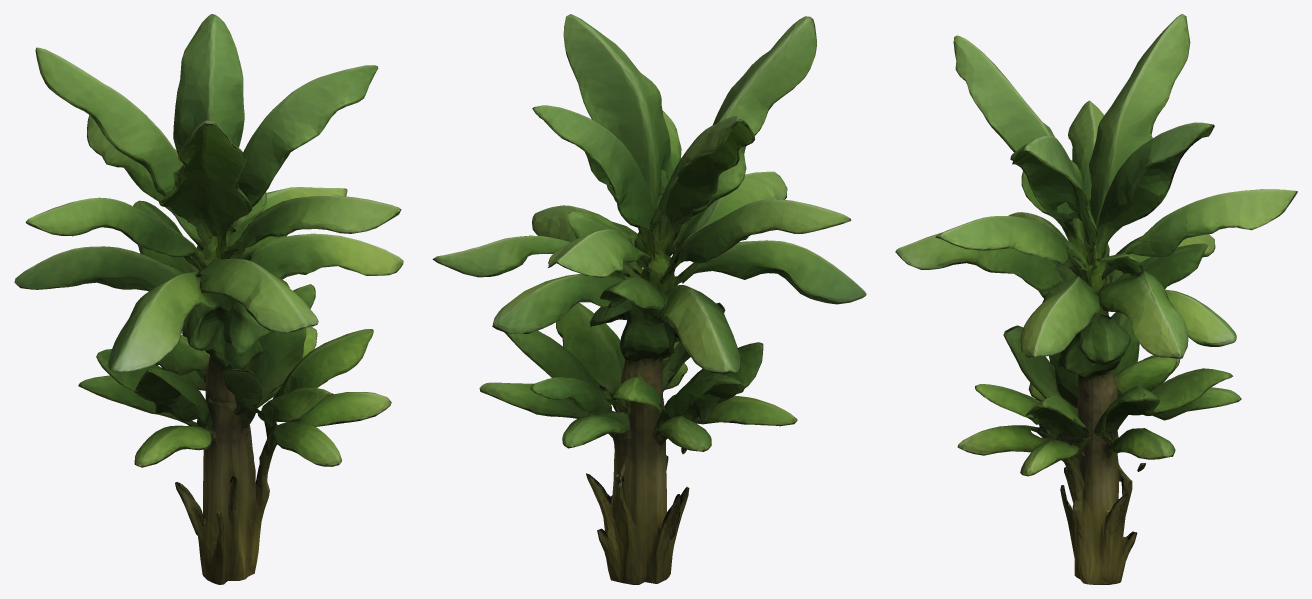
The model's file is banana_tree1.glb.
3 views of the same model, side by side, from view 1: azimuth 30°, elevation 25°; view 2: azimuth 150°, elevation 25°; view 3: azimuth 270°, elevation 25° (orthographic). The views are drawn at different scales.
Visible parts, largest first — view 1: world; view 2: world; view 3: world.
Boxes of the visible parts, x1=… form: world: x1=14, y1=14, x2=403, y2=584; world: x1=432, y1=14, x2=866, y2=584; world: x1=895, y1=14, x2=1297, y2=584.
Bounding box in the file's own units: 0.7352 × 1 × 0.7375.
Materials: 1 (1 with a texture image).
